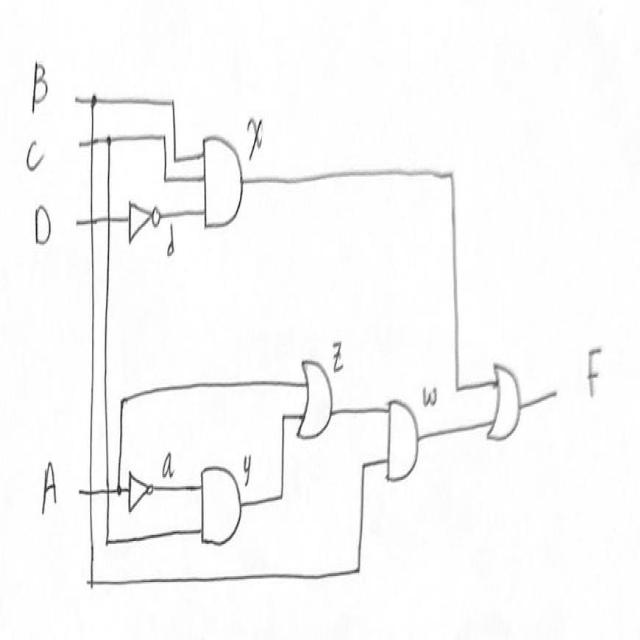AND: (200, 126, 248, 243), (385, 372, 422, 498), (198, 456, 244, 553)
NOT: (127, 187, 160, 255), (124, 464, 159, 523)
OR: (485, 354, 529, 464), (295, 349, 335, 465)
